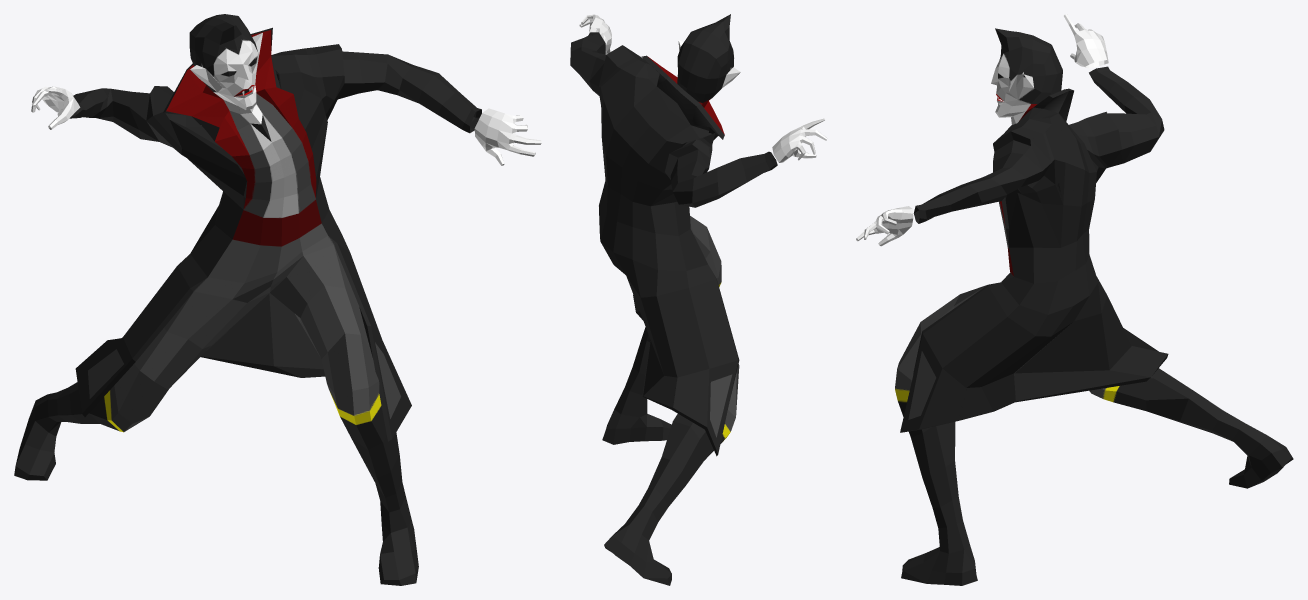
Rendered from VampireAttack(19).obj.
3 views of the same model, side by side, from view 1: azimuth 30°, elevation 25°; view 2: azimuth 150°, elevation 25°; view 3: azimuth 270°, elevation 25° (orthographic). The views are drawn at different scales.
Parts seen in each view (by area): view 1: Plane002; view 2: Plane002; view 3: Plane002.
Part boxes in pixels (x1,y1,x2,y2): Plane002: [14, 14, 541, 585]; Plane002: [570, 14, 827, 585]; Plane002: [856, 14, 1293, 585].
Bounding box in the file's own units: 213 × 287 × 231.
